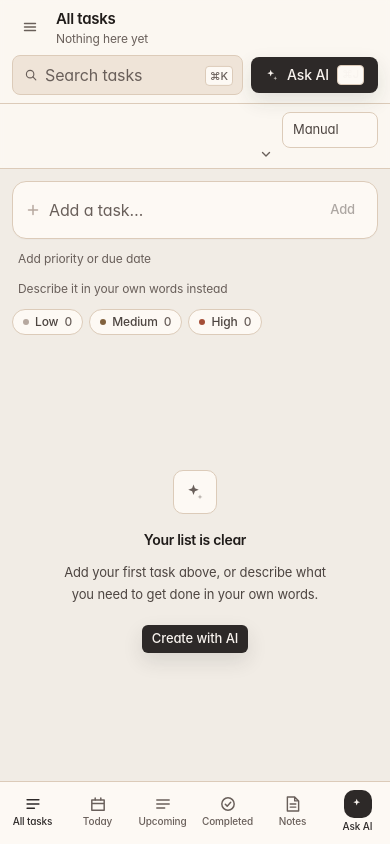
Test: mobile navigation drawer › stays visible after opening from the hamburger button
The image size is (390, 844).
Click the button named "Open navigation". click: (30, 27)
box: [12,9,48,45]
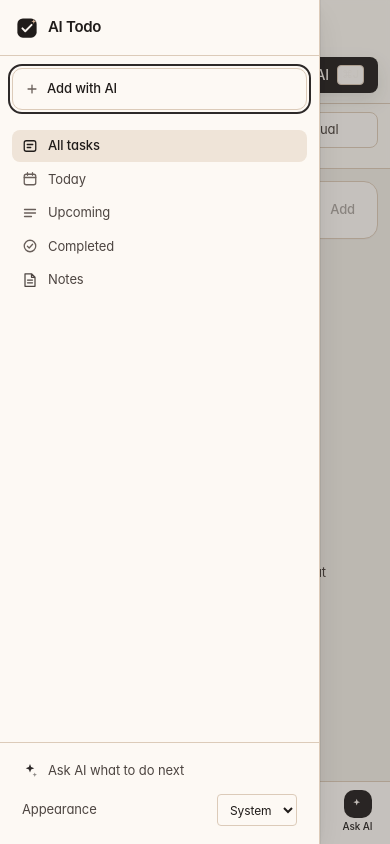
Expected: the dialog named "Navigation" is shown
